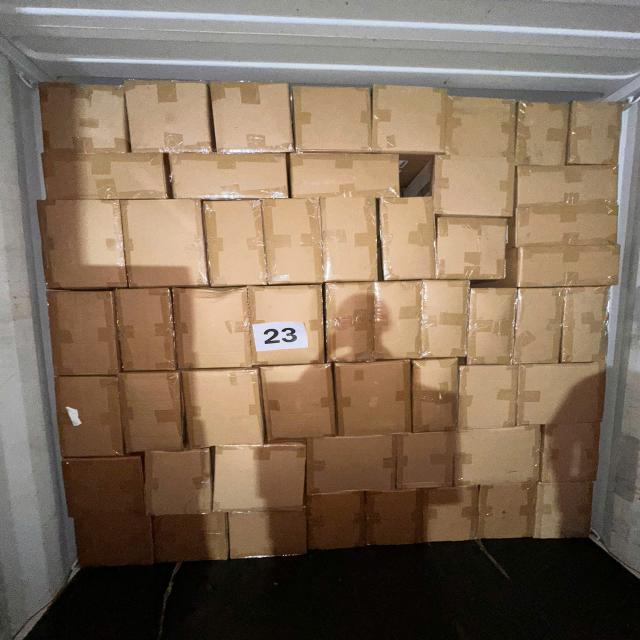Carton: (429, 89, 516, 217), (36, 198, 126, 290), (232, 283, 327, 367), (122, 198, 206, 288), (36, 79, 132, 155), (214, 443, 310, 514), (182, 364, 264, 447), (172, 284, 252, 369), (38, 152, 169, 202), (123, 81, 210, 156), (47, 290, 120, 378), (333, 359, 411, 436), (59, 453, 148, 520), (214, 82, 294, 156), (53, 373, 123, 456), (260, 364, 334, 442), (167, 156, 288, 203), (519, 362, 610, 424), (511, 160, 620, 211), (203, 199, 266, 287), (305, 436, 397, 496), (120, 372, 186, 454), (453, 428, 543, 488), (69, 512, 159, 572), (294, 86, 373, 154), (115, 289, 177, 374), (262, 196, 321, 284), (374, 85, 449, 154), (510, 204, 622, 249), (291, 155, 402, 200), (436, 160, 518, 220), (434, 215, 508, 281), (323, 198, 380, 283), (147, 448, 217, 516), (515, 244, 621, 288), (381, 196, 436, 280), (538, 420, 602, 485), (230, 512, 309, 564), (363, 486, 427, 549), (460, 365, 520, 432), (153, 516, 230, 567), (517, 288, 566, 368), (326, 284, 375, 364), (307, 490, 368, 554), (419, 483, 483, 543), (560, 287, 609, 365), (421, 281, 468, 360), (372, 279, 418, 359), (568, 101, 624, 166), (468, 290, 514, 368), (397, 429, 457, 488), (411, 358, 458, 433), (537, 481, 596, 539), (478, 482, 537, 540), (518, 102, 570, 167)
